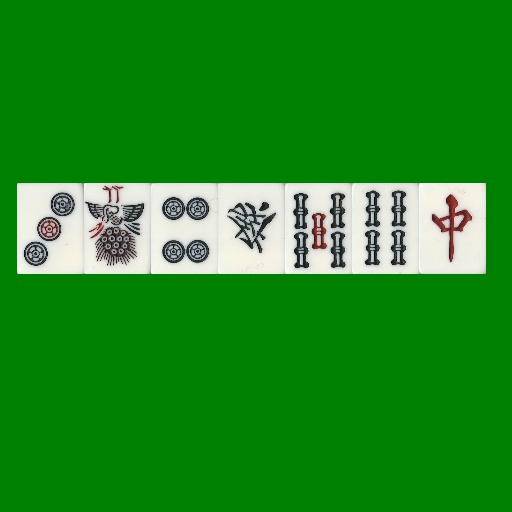1s: (84, 183, 151, 274)
3p: (17, 183, 84, 274)
4p: (151, 183, 218, 274)
4s: (352, 183, 419, 274)
5s: (285, 183, 352, 274)
hatsu: (218, 183, 285, 274)
tyun: (419, 183, 486, 274)
